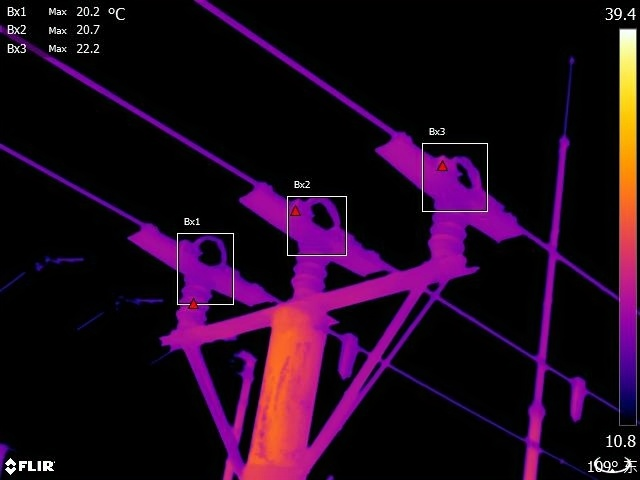clamp: (565, 370, 590, 420)
post insulator: (419, 198, 474, 259), (281, 244, 337, 301), (166, 274, 218, 324)
